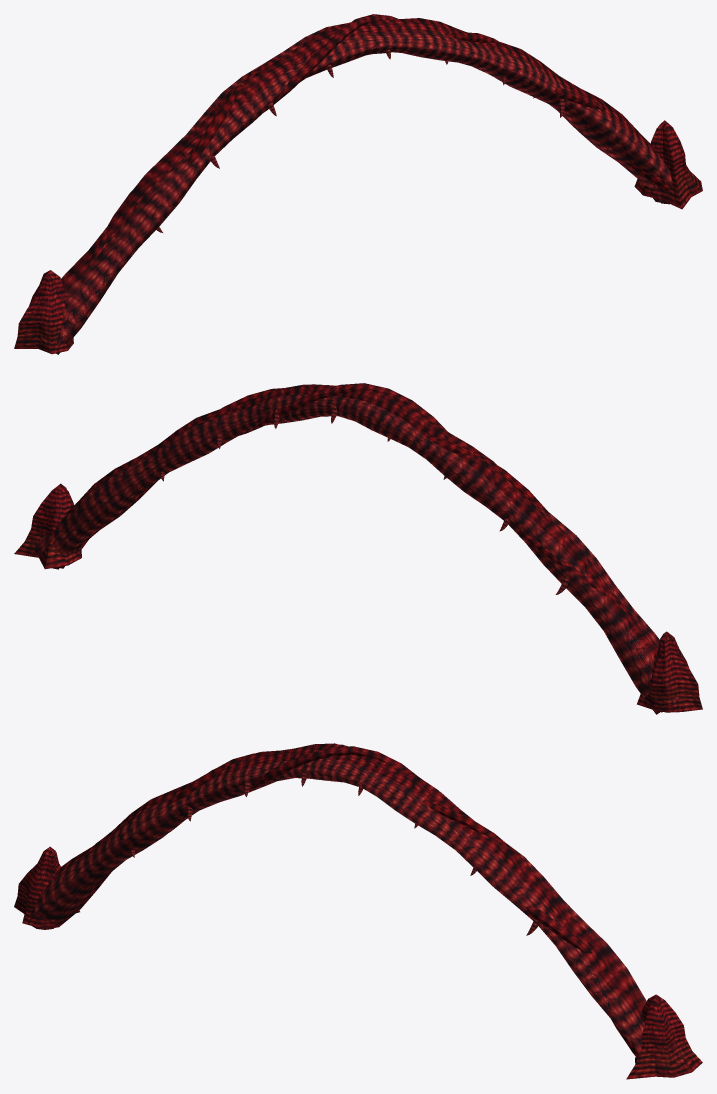
Rendered from Cavern_RibArch.glb.
The picture shows the model from 3 angles, top to bottom: view 1: azimuth 30°, elevation 25°; view 2: azimuth 150°, elevation 25°; view 3: azimuth 330°, elevation 25°; orthographic projection.
Visible parts, largest first — view 1: Cavern_RibArch_Cartilage, Cavern_RibArch_FleshRidges, Cavern_RibArch_TendonWraps; view 2: Cavern_RibArch_Cartilage, Cavern_RibArch_FleshRidges, Cavern_RibArch_TendonWraps; view 3: Cavern_RibArch_Cartilage, Cavern_RibArch_FleshRidges, Cavern_RibArch_TendonWraps.
Boxes of the visible parts, box(x1,y1,x2,y2) form: Cavern_RibArch_Cartilage: box(38, 24, 672, 354); Cavern_RibArch_FleshRidges: box(14, 14, 702, 354); Cavern_RibArch_TendonWraps: box(187, 32, 670, 190); Cavern_RibArch_Cartilage: box(34, 384, 679, 714); Cavern_RibArch_FleshRidges: box(14, 383, 702, 712); Cavern_RibArch_TendonWraps: box(198, 388, 662, 712); Cavern_RibArch_Cartilage: box(30, 744, 646, 1055); Cavern_RibArch_FleshRidges: box(14, 743, 702, 1079); Cavern_RibArch_TendonWraps: box(106, 750, 638, 1058).
Size of the model in its own units: 164 by 58.9 by 18.67.
3 materials, 3 textured.
